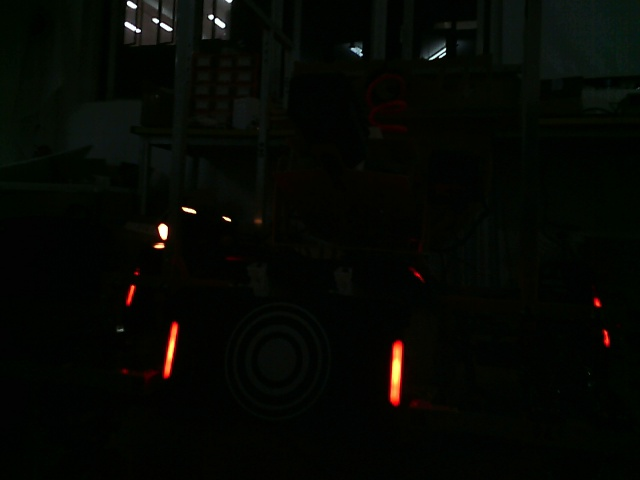lamp: (382, 335, 408, 409), (159, 318, 180, 382)
